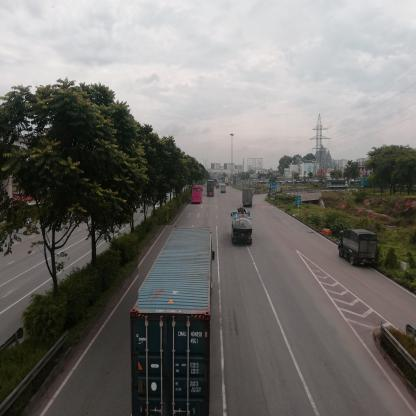bus: (193, 187, 203, 204), (222, 185, 227, 195)
container: (139, 226, 211, 416), (206, 181, 214, 197)
truck: (340, 230, 378, 269), (230, 208, 254, 248), (243, 190, 256, 209), (328, 181, 350, 190)
